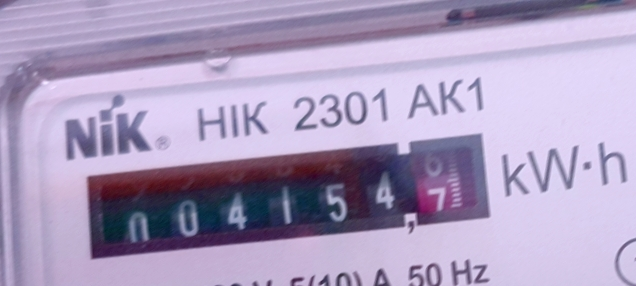0: (172, 197, 199, 240), (123, 207, 149, 244)
1: (275, 184, 293, 227)
4: (369, 167, 394, 213), (221, 190, 247, 233)
5: (320, 178, 349, 225)
6: (419, 148, 444, 179)
7: (423, 184, 446, 214)
screen: (64, 118, 507, 275)
